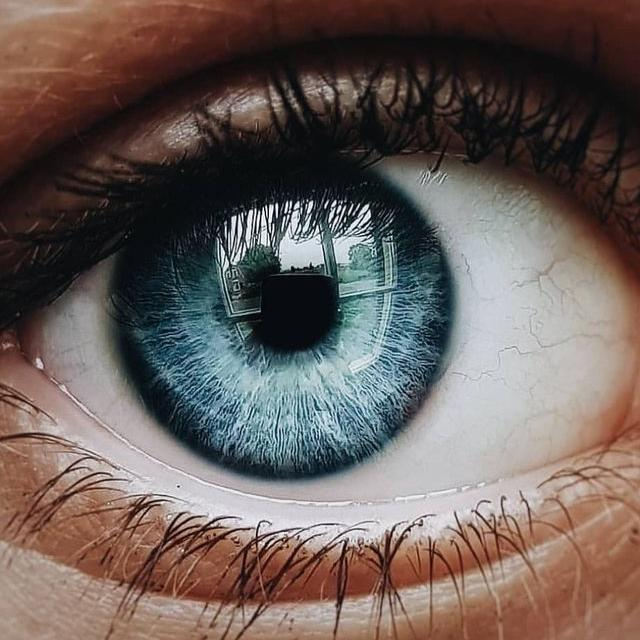eye: (22, 132, 640, 509)
iris: (104, 154, 454, 484)
